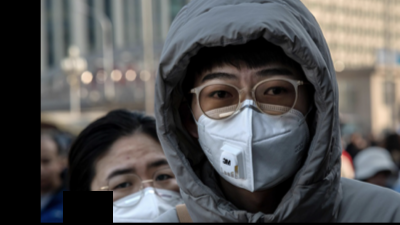with_mask: (191, 64, 310, 195), (89, 154, 184, 222)
